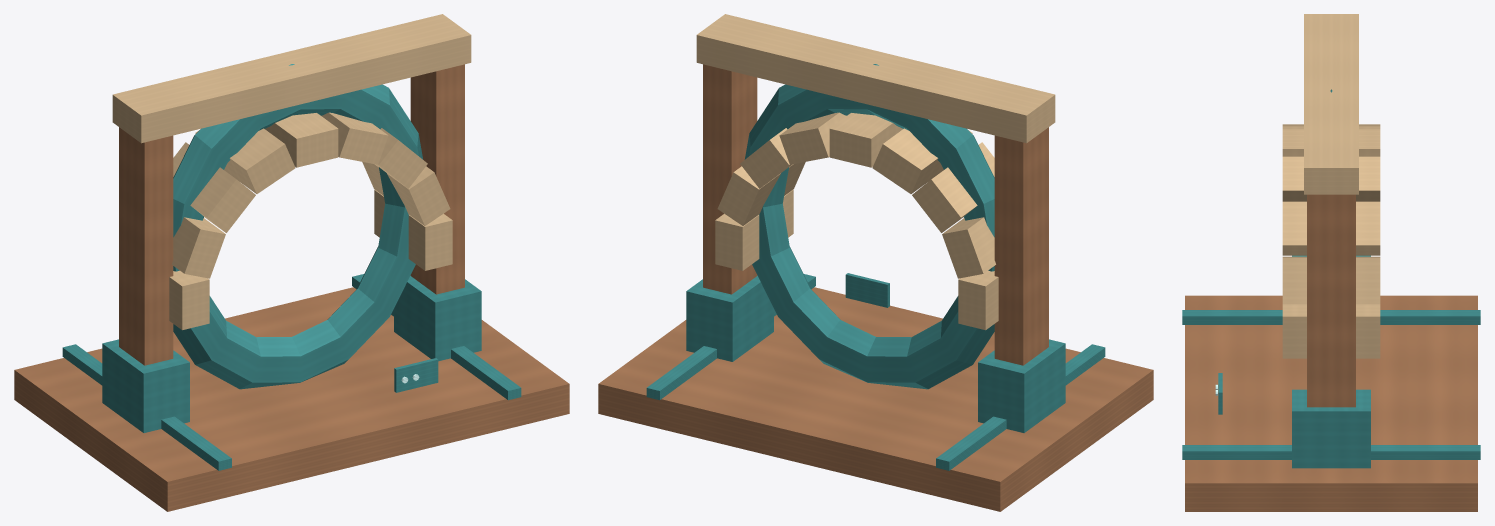
Rendered from atlas100-s097-a01.glb.
The picture shows the model from 3 angles, left to right: view 1: azimuth 30°, elevation 25°; view 2: azimuth 150°, elevation 25°; view 3: azimuth 270°, elevation 25°; orthographic projection. The views are drawn at different scales.
Parts seen in each view (by area): view 1: atlas100-s097-a01:part-000, atlas100-s097-a01:part-008, atlas100-s097-a01:part-007, atlas100-s097-a01:part-003, atlas100-s097-a01:part-005, atlas100-s097-a01:part-004, atlas100-s097-a01:part-006, atlas100-s097-a01:part-014, atlas100-s097-a01:part-013, atlas100-s097-a01:part-009, atlas100-s097-a01:part-015, atlas100-s097-a01:part-016 (+7 smaller); view 2: atlas100-s097-a01:part-000, atlas100-s097-a01:part-008, atlas100-s097-a01:part-007, atlas100-s097-a01:part-003, atlas100-s097-a01:part-005, atlas100-s097-a01:part-004, atlas100-s097-a01:part-006, atlas100-s097-a01:part-014, atlas100-s097-a01:part-013, atlas100-s097-a01:part-009, atlas100-s097-a01:part-015, atlas100-s097-a01:part-016 (+7 smaller); view 3: atlas100-s097-a01:part-000, atlas100-s097-a01:part-005, atlas100-s097-a01:part-007, atlas100-s097-a01:part-006, atlas100-s097-a01:part-002, atlas100-s097-a01:part-001, atlas100-s097-a01:part-009, atlas100-s097-a01:part-011, atlas100-s097-a01:part-010, atlas100-s097-a01:part-012, atlas100-s097-a01:part-013.
Part boxes in pixels (x1=…): atlas100-s097-a01:part-000: x1=14, y1=287, x2=569, y2=511; atlas100-s097-a01:part-008: x1=173, y1=64, x2=423, y2=389; atlas100-s097-a01:part-007: x1=112, y1=14, x2=471, y2=143; atlas100-s097-a01:part-003: x1=119, y1=127, x2=173, y2=365; atlas100-s097-a01:part-005: x1=410, y1=64, x2=464, y2=294; atlas100-s097-a01:part-004: x1=102, y1=339, x2=189, y2=432; atlas100-s097-a01:part-006: x1=394, y1=275, x2=481, y2=361; atlas100-s097-a01:part-014: x1=195, y1=128, x2=295, y2=193; atlas100-s097-a01:part-013: x1=265, y1=113, x2=338, y2=167; atlas100-s097-a01:part-009: x1=374, y1=189, x2=452, y2=270; atlas100-s097-a01:part-015: x1=173, y1=142, x2=255, y2=232; atlas100-s097-a01:part-016: x1=172, y1=217, x2=225, y2=278; atlas100-s097-a01:part-000: x1=598, y1=287, x2=1153, y2=511; atlas100-s097-a01:part-008: x1=744, y1=64, x2=994, y2=389; atlas100-s097-a01:part-007: x1=696, y1=14, x2=1055, y2=143; atlas100-s097-a01:part-003: x1=994, y1=127, x2=1048, y2=365; atlas100-s097-a01:part-005: x1=703, y1=64, x2=757, y2=294; atlas100-s097-a01:part-004: x1=978, y1=339, x2=1065, y2=432; atlas100-s097-a01:part-006: x1=686, y1=275, x2=773, y2=361; atlas100-s097-a01:part-014: x1=872, y1=128, x2=972, y2=193; atlas100-s097-a01:part-013: x1=829, y1=113, x2=902, y2=167; atlas100-s097-a01:part-009: x1=715, y1=189, x2=793, y2=270; atlas100-s097-a01:part-015: x1=912, y1=142, x2=994, y2=232; atlas100-s097-a01:part-016: x1=942, y1=217, x2=995, y2=278; atlas100-s097-a01:part-000: x1=1185, y1=295, x2=1477, y2=511; atlas100-s097-a01:part-005: x1=1307, y1=194, x2=1355, y2=407; atlas100-s097-a01:part-007: x1=1304, y1=14, x2=1358, y2=194; atlas100-s097-a01:part-006: x1=1292, y1=389, x2=1370, y2=468; atlas100-s097-a01:part-002: x1=1182, y1=445, x2=1480, y2=459; atlas100-s097-a01:part-001: x1=1182, y1=310, x2=1480, y2=324; atlas100-s097-a01:part-009: x1=1282, y1=304, x2=1380, y2=358; atlas100-s097-a01:part-011: x1=1282, y1=201, x2=1380, y2=255; atlas100-s097-a01:part-010: x1=1282, y1=256, x2=1380, y2=304; atlas100-s097-a01:part-012: x1=1282, y1=156, x2=1380, y2=201; atlas100-s097-a01:part-013: x1=1282, y1=129, x2=1380, y2=156.
Size of the model in its own units: 3.64 by 2.97 by 2.45.
Materials: 4 (4 with a texture image).
